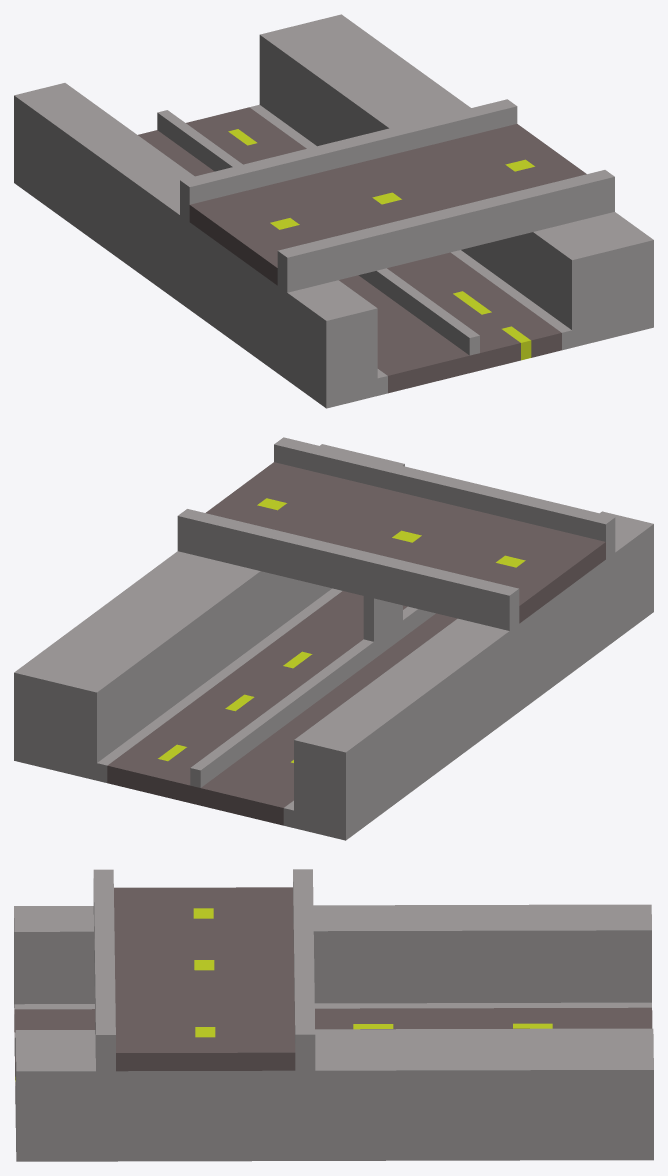
Rendered from way.fbx.
3 views of the same model, one above another, from view 1: azimuth 30°, elevation 25°; view 2: azimuth 150°, elevation 25°; view 3: azimuth 270°, elevation 25° (orthographic). The views are drawn at different scales.
Visible parts, largest first — view 1: Layer.103; view 2: Layer.103; view 3: Layer.103.
Part boxes in pixels (bbox=[...]): Layer.103: bbox=[14, 14, 653, 408]; Layer.103: bbox=[14, 437, 653, 840]; Layer.103: bbox=[14, 869, 653, 1161].
Size of the model in its own units: 1982 by 700 by 3211.
Materials: 1 (1 with a texture image).
